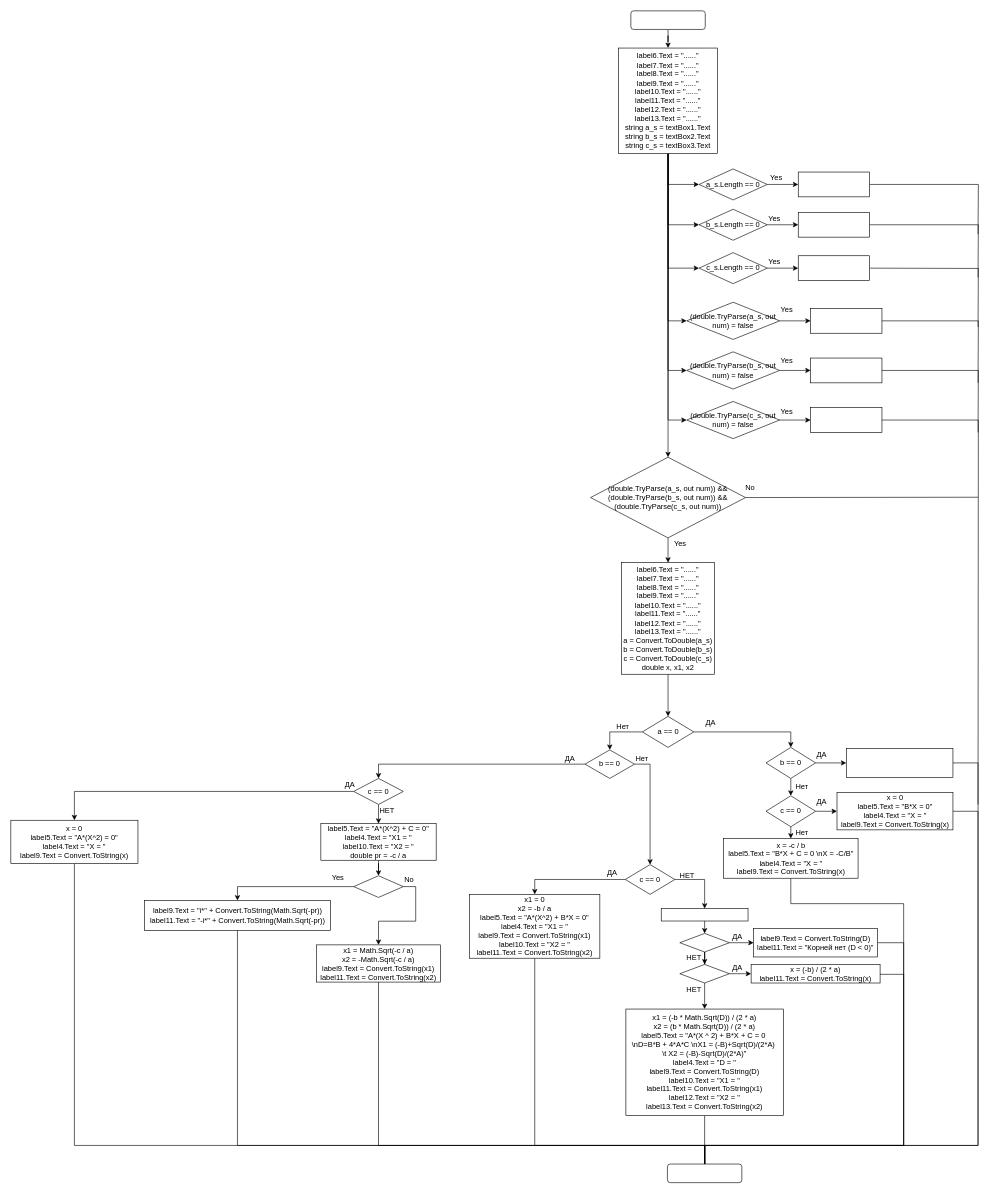
The diagram is 990 pixels wide and 1194 high, and some of its shapes have lost their labels. The centre of each missing label's shape, as x and y in pixels:
D < 0: point (704, 942)
D = b1 * b1 + 4 * a1 * c1: point (704, 914)
D == 0: point (704, 973)
END: point (704, 1173)
label5.Text = "C = 0" label4.Text = "X = " label9.Text = "Корней нет!!!": point (899, 762)
label6.Text = "Вы ввели не число": point (846, 320)
label6.Text = "Вы ничего не ввели!": point (834, 184)
label7.Text = "Вы ввели не число": point (846, 370)
label7.Text = "Вы ничего не ввели!": point (834, 224)
label8.Text = "Вы ввели не число": point (846, 419)
label8.Text = "Вы ничего не ввели!": point (834, 268)
pr<0: point (378, 886)
